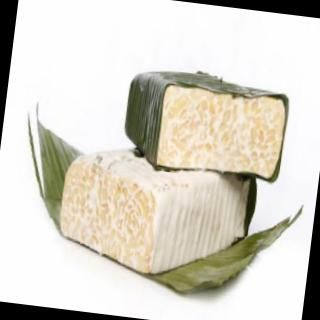Tempe: (52, 140, 258, 288), (119, 63, 296, 187)
